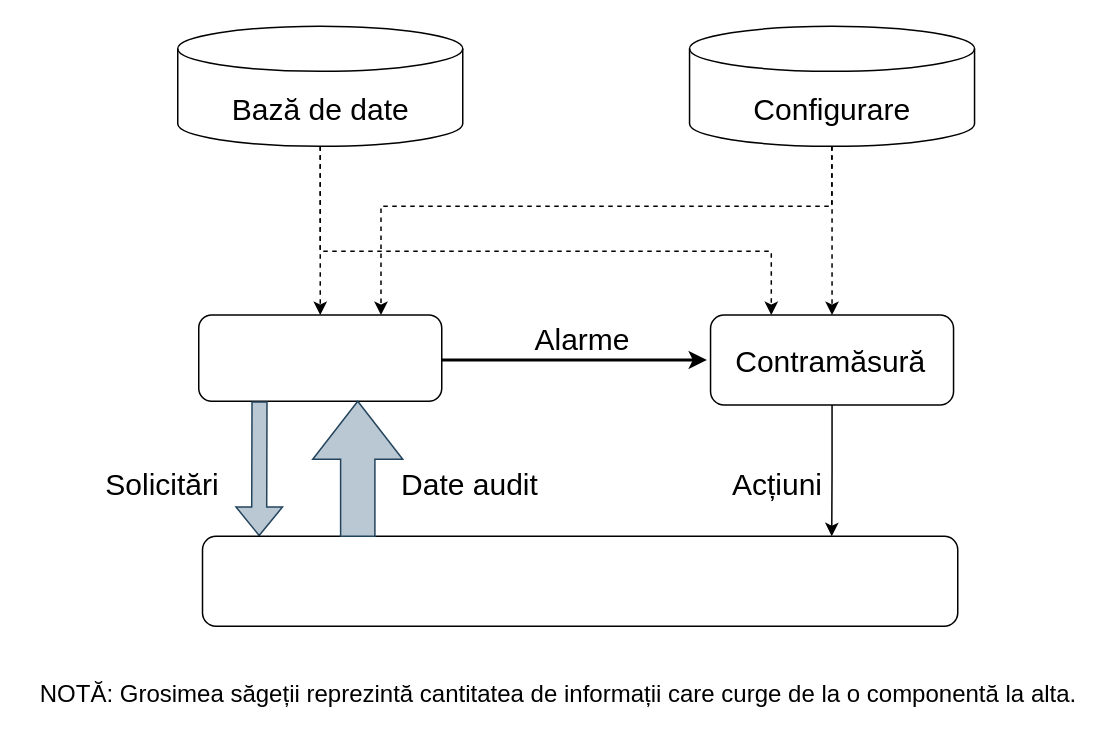
Some shapes in this 1116 by 743 pixel diagram are drawn without their labels. The centre of each missing label's shape, as x and y in pixels:
Detector: the point at 319,357
Sistem informatic: the point at 579,580
